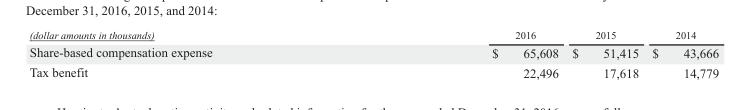table: (28, 29, 718, 79)
table column: (28, 29, 351, 79), (351, 29, 564, 79), (564, 29, 644, 79), (644, 29, 718, 79)
table column header: (28, 29, 718, 42)
table row: (28, 42, 718, 62), (28, 62, 718, 79), (28, 29, 718, 42)
